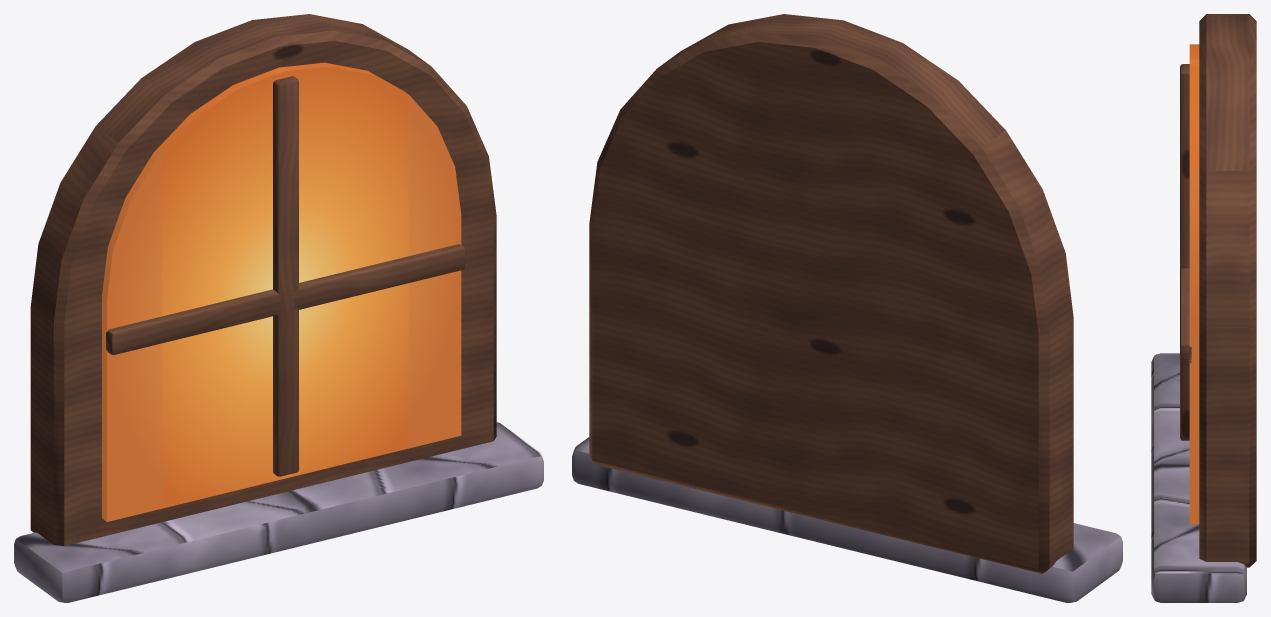
File: window_round.gltf
The picture shows the model from 3 angles, left to right: view 1: azimuth 30°, elevation 25°; view 2: azimuth 150°, elevation 25°; view 3: azimuth 270°, elevation 25°; orthographic projection. The views are drawn at different scales.
Parts seen in each view (by area): view 1: window_round_mesh; view 2: window_round_mesh; view 3: window_round_mesh.
Part boxes in pixels (x1,y1,x2,y2): window_round_mesh: (14,14,543,602); window_round_mesh: (572,14,1122,602); window_round_mesh: (1151,14,1256,602).
Size of the model in its own units: 1.1 by 1.06 by 0.22.
Materials: 3 (3 with a texture image).
